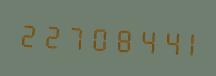eight: (105, 19, 126, 56)
four: (127, 21, 148, 58), (149, 22, 170, 59)
one: (171, 23, 192, 60)
seven: (61, 17, 82, 54)
two: (17, 15, 38, 52), (39, 16, 60, 53)
zero: (83, 18, 104, 55)
